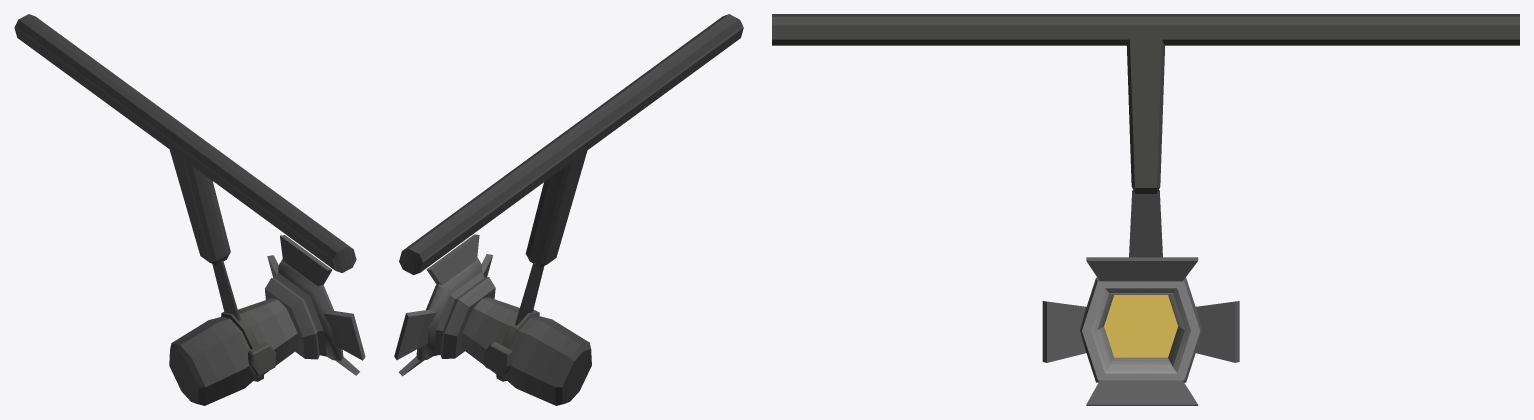
Rendered from Spotlight.fbx.
3 renders of one model, left to right at view 1: azimuth 30°, elevation 25°; view 2: azimuth 150°, elevation 25°; view 3: azimuth 270°, elevation 25°, orthographic. The views are drawn at different scales.
Visible parts, largest first — view 1: polySurface7, polySurface37; view 2: polySurface7, polySurface37; view 3: polySurface7, polySurface37.
Boxes of the visible parts, box(x1,y1,x2,y2) form: polySurface7: box(14, 14, 356, 320); polySurface37: box(169, 235, 365, 405); polySurface7: box(399, 14, 743, 325); polySurface37: box(394, 234, 591, 405); polySurface7: box(772, 14, 1519, 257); polySurface37: box(1042, 257, 1239, 405).
Size of the model in its own units: 0.7968 by 1.29 by 2.72.
